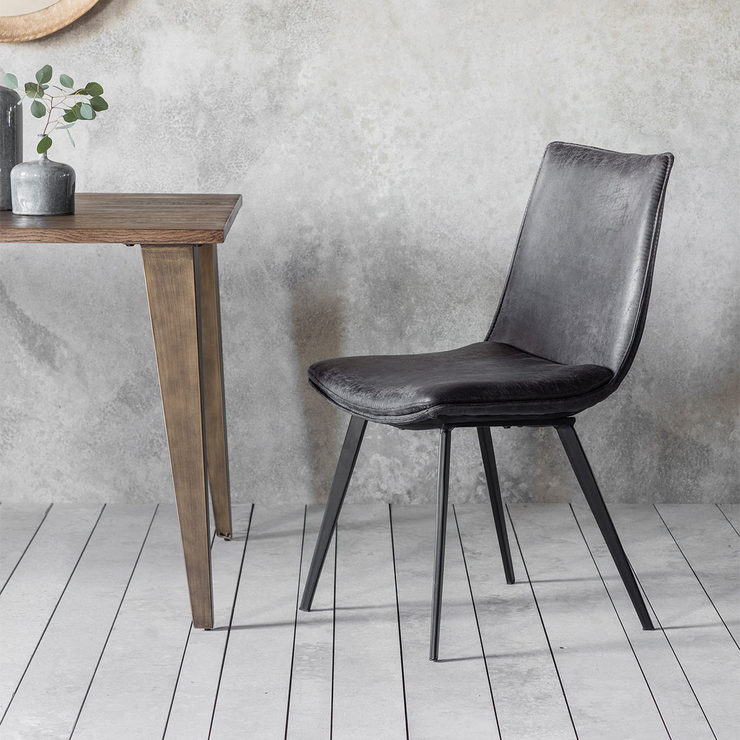chair: (293, 128, 684, 670)
table: (3, 171, 260, 648)
